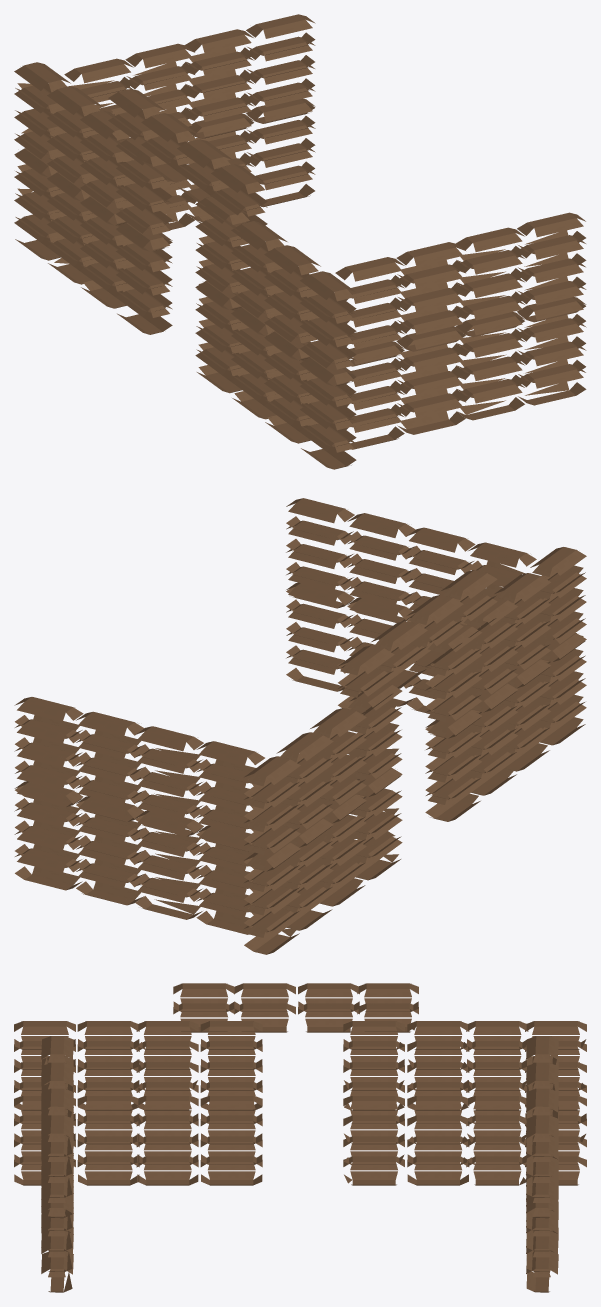
Rendered from bags_u.glb.
The picture shows the model from 3 angles, top to bottom: view 1: azimuth 30°, elevation 25°; view 2: azimuth 150°, elevation 25°; view 3: azimuth 270°, elevation 25°; orthographic projection. The views are drawn at different scales.
Visible parts, largest first — view 1: sand bag; view 2: sand bag; view 3: sand bag.
Part boxes in pixels (x1,y1,x2,y2): sand bag: (14,14,586,469); sand bag: (14,498,586,954); sand bag: (14,983,586,1292).
Bounding box in the file's own units: 3.46 × 2.63 × 6.95.
1 material, 1 textured.
